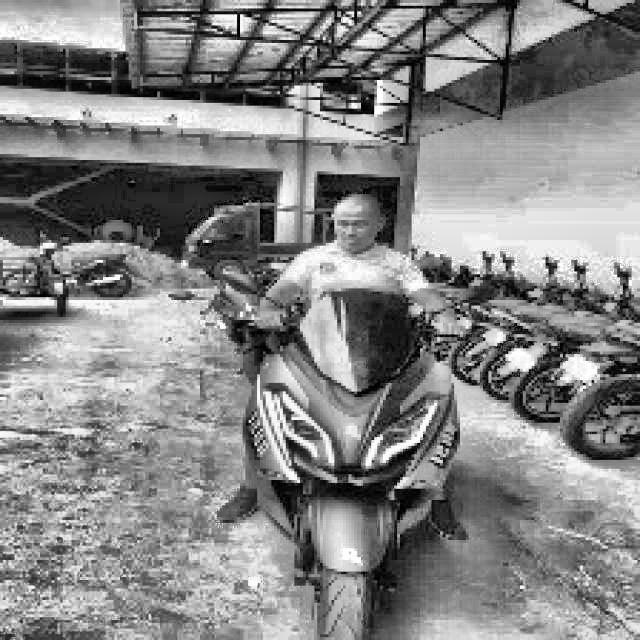motorcycle: (213, 251, 482, 640)
